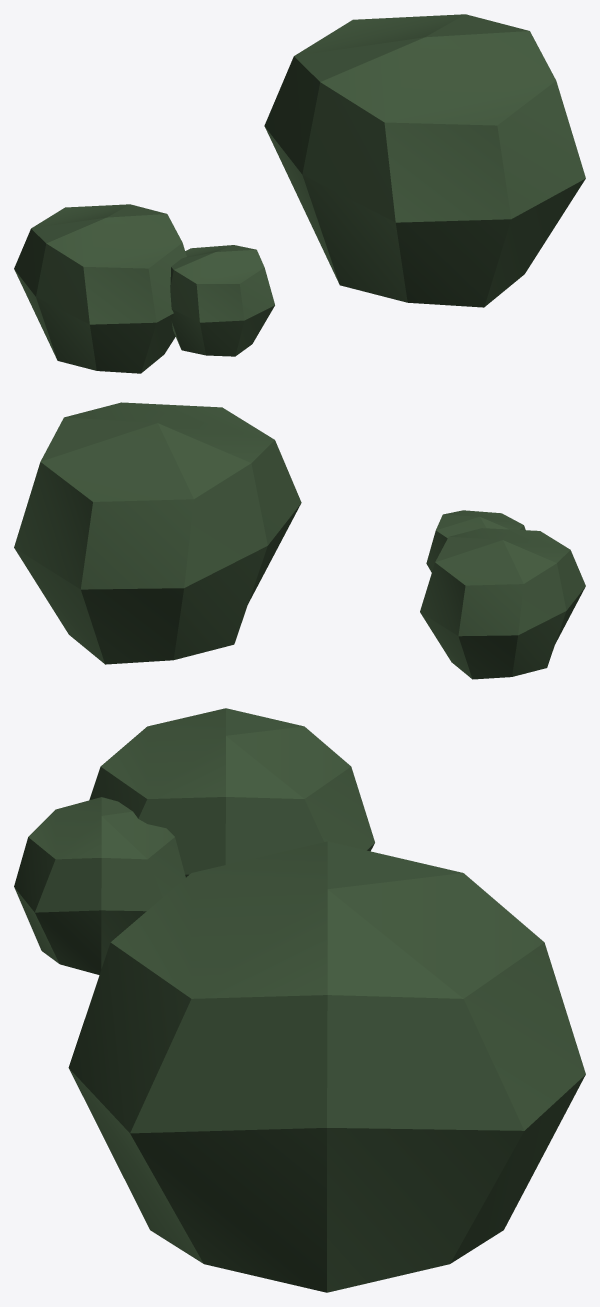
File: Çalı.fbx
3 renders of one model, top to bottom at view 1: azimuth 30°, elevation 25°; view 2: azimuth 150°, elevation 25°; view 3: azimuth 270°, elevation 25°, orthographic. The views are drawn at different scales.
Parts seen in each view (by area): view 1: Model; view 2: Model; view 3: Model.
Part boxes in pixels (<box>): Model: <box>14,14,585,373</box>; Model: <box>14,402,585,679</box>; Model: <box>14,708,585,1292</box>.
Size of the model in its own units: 330 by 131 by 199.
